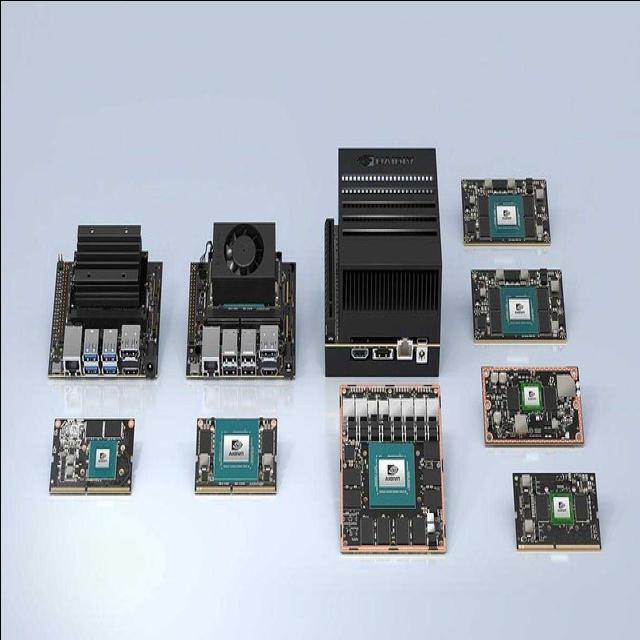Jetson Nano: (45, 224, 163, 377), (187, 222, 296, 378)
